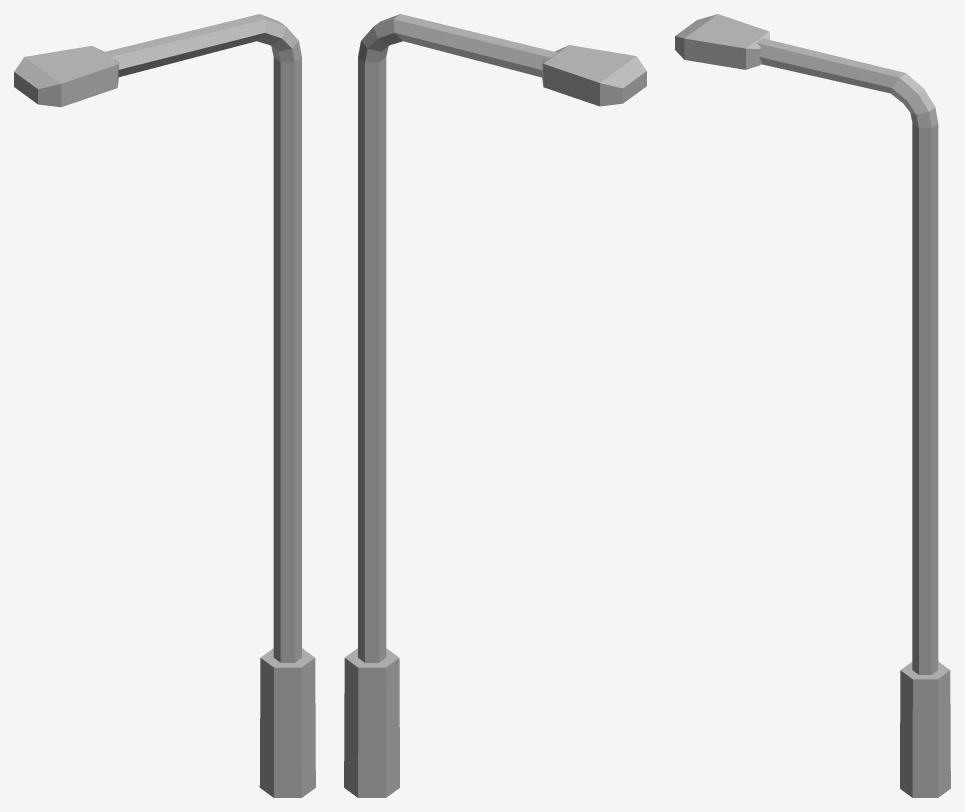
The model's file is Props_Street Light.fbx.
3 views of the same model, side by side, from view 1: azimuth 30°, elevation 25°; view 2: azimuth 150°, elevation 25°; view 3: azimuth 330°, elevation 25° (orthographic). The views are drawn at different scales.
Parts seen in each view (by area): view 1: Props_Street_Light; view 2: Props_Street_Light; view 3: Props_Street_Light.
Part boxes in pixels (left/top/right/bottom): Props_Street_Light: left=14, top=14, right=315, bottom=797; Props_Street_Light: left=344, top=14, right=646, bottom=797; Props_Street_Light: left=675, top=14, right=950, bottom=797.
Size of the model in its own units: 245 by 643 by 55.22.
Materials: 1 (1 with a texture image).
